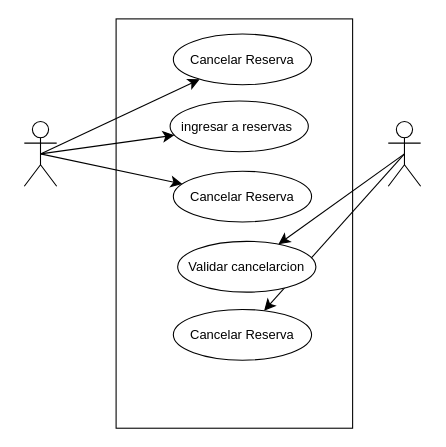
Some shapes in this 446 by 447 pixel diagram are drawn without their labels. The shapes that lost their labels are listed below. From the top down, each one's centre as x and y in pixels, then its label:
At [40,153]: "Usuario".
At [404,153]: "Sistema".
